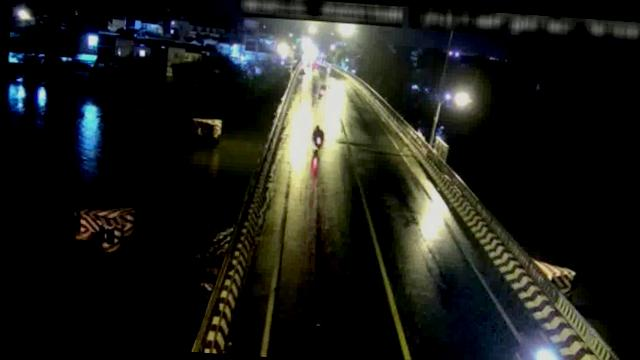Bike: (310, 122, 328, 150), (316, 84, 326, 103)
